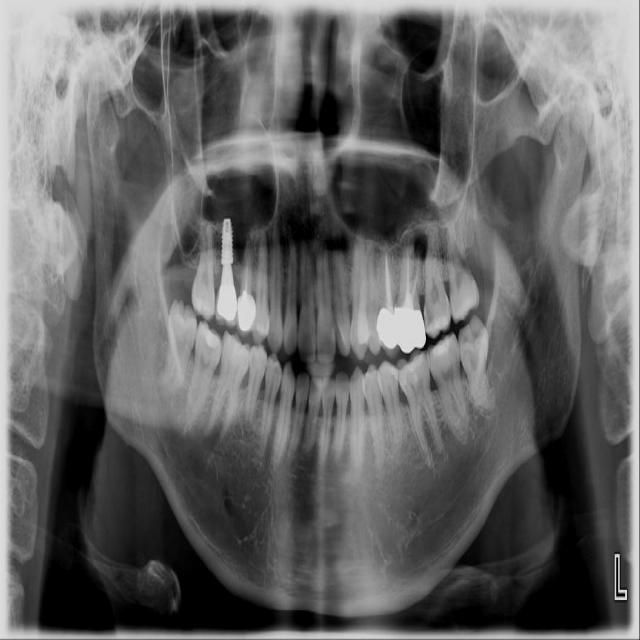Crown: (394, 301, 427, 354), (376, 306, 399, 359), (216, 283, 239, 329), (236, 295, 256, 339)
Filling: (203, 326, 220, 350), (432, 341, 448, 356)
Implant: (221, 217, 234, 262)
Periapical lesion: (412, 232, 431, 260)
Root Canal Treatment: (414, 251, 422, 286), (385, 257, 389, 305), (405, 247, 409, 291)
